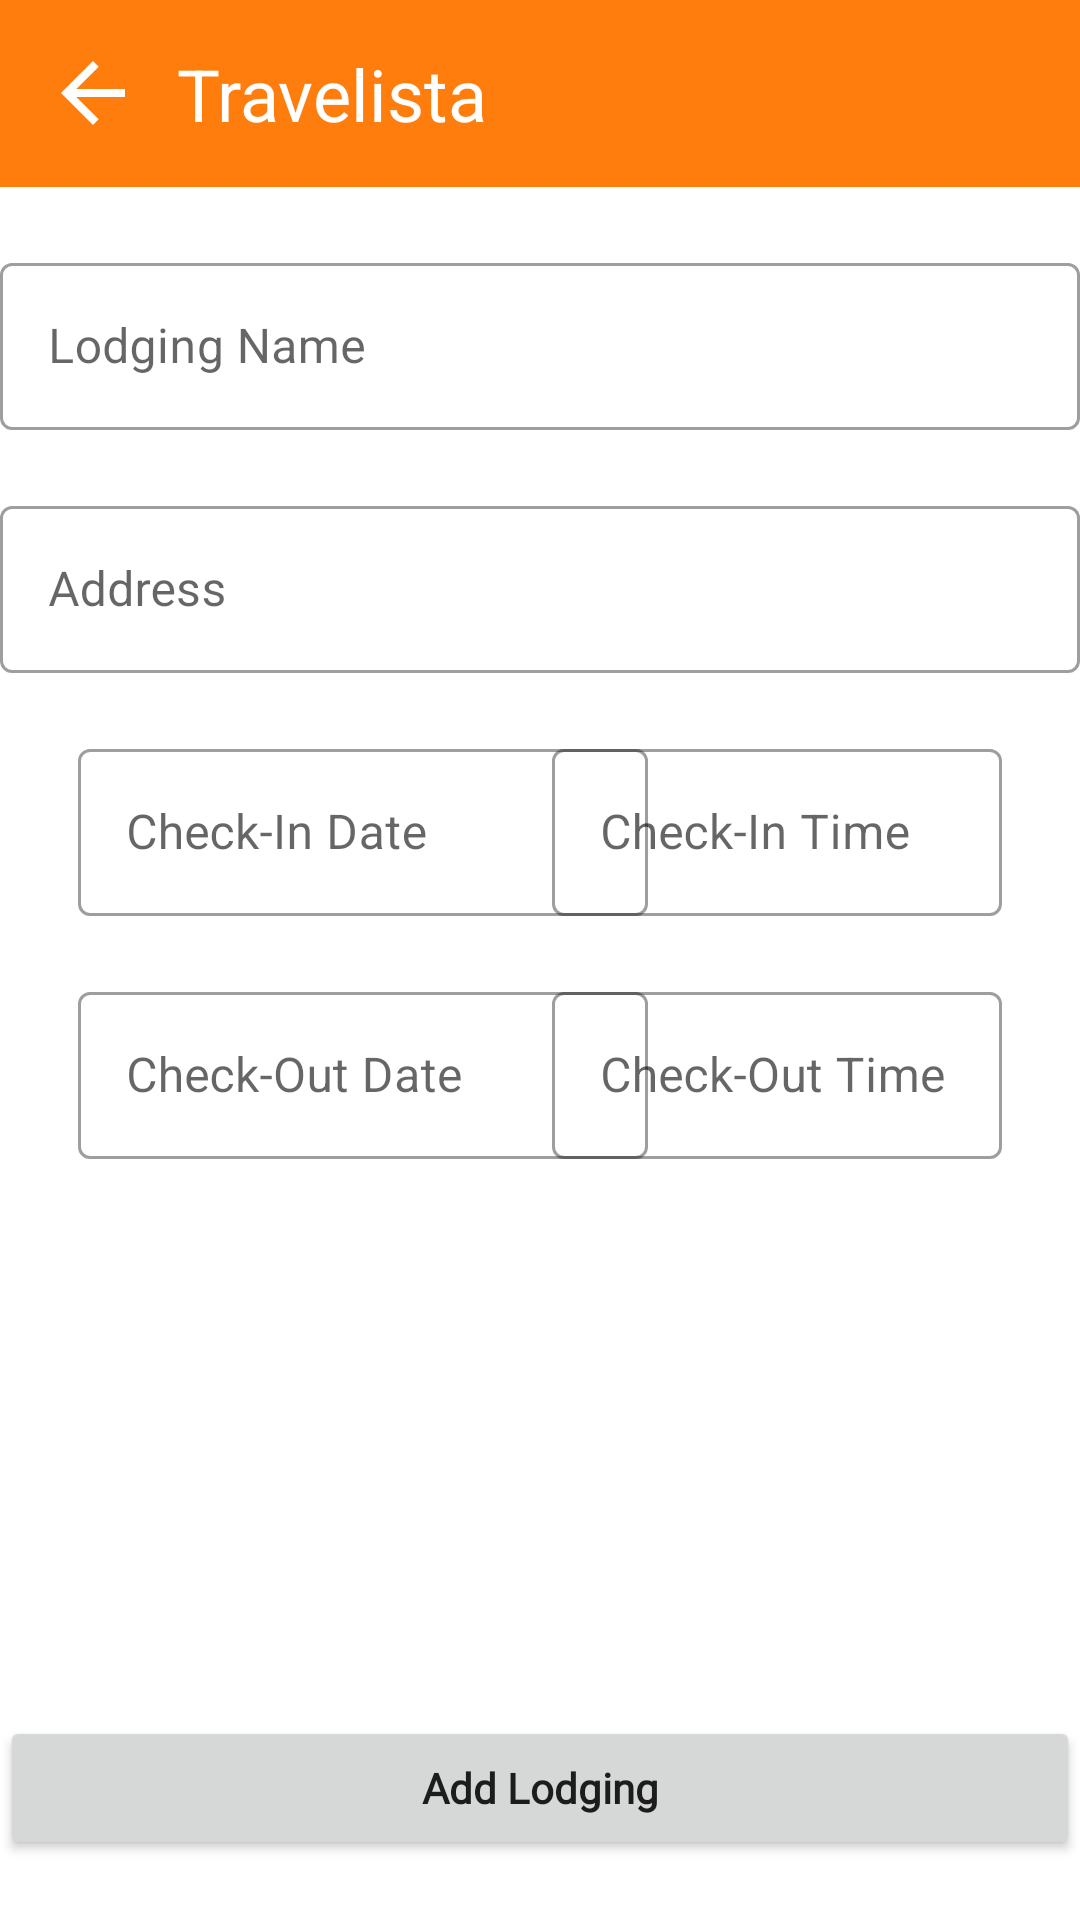

Named icons in this screenshot (1080 x 1920) and their bounding boxes, (x1, y1, x2, y2):
back: (61, 61, 125, 125)
